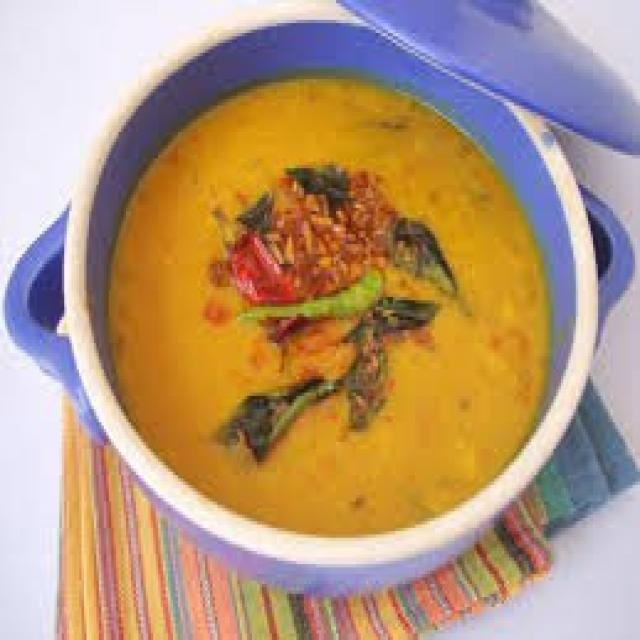dal: (125, 122, 529, 463)
